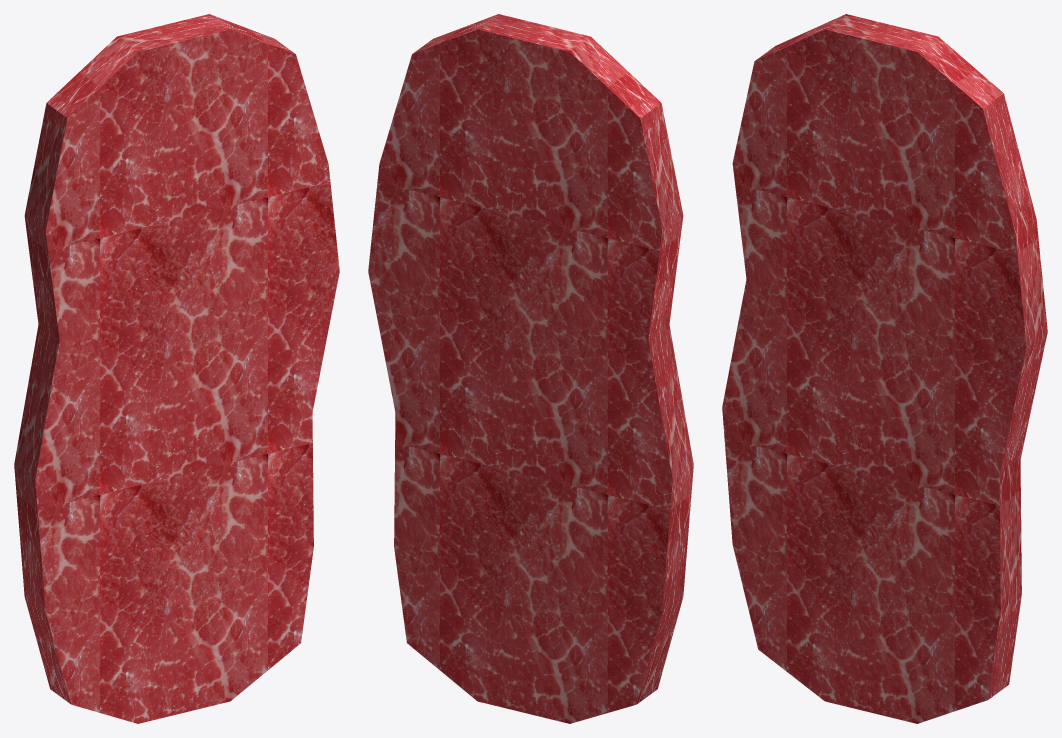
File: Meat.fbx
3 renders of one model, left to right at view 1: azimuth 30°, elevation 25°; view 2: azimuth 150°, elevation 25°; view 3: azimuth 330°, elevation 25°, orthographic.
Parts seen in each view (by area): view 1: Box001; view 2: Box001; view 3: Box001.
Part boxes in pixels (x1,y1,x2,y2): Box001: [14, 14, 339, 723]; Box001: [368, 14, 693, 723]; Box001: [722, 14, 1047, 723].
Size of the model in its own units: 33.76 by 71.17 by 4.04.
1 material, 1 textured.
